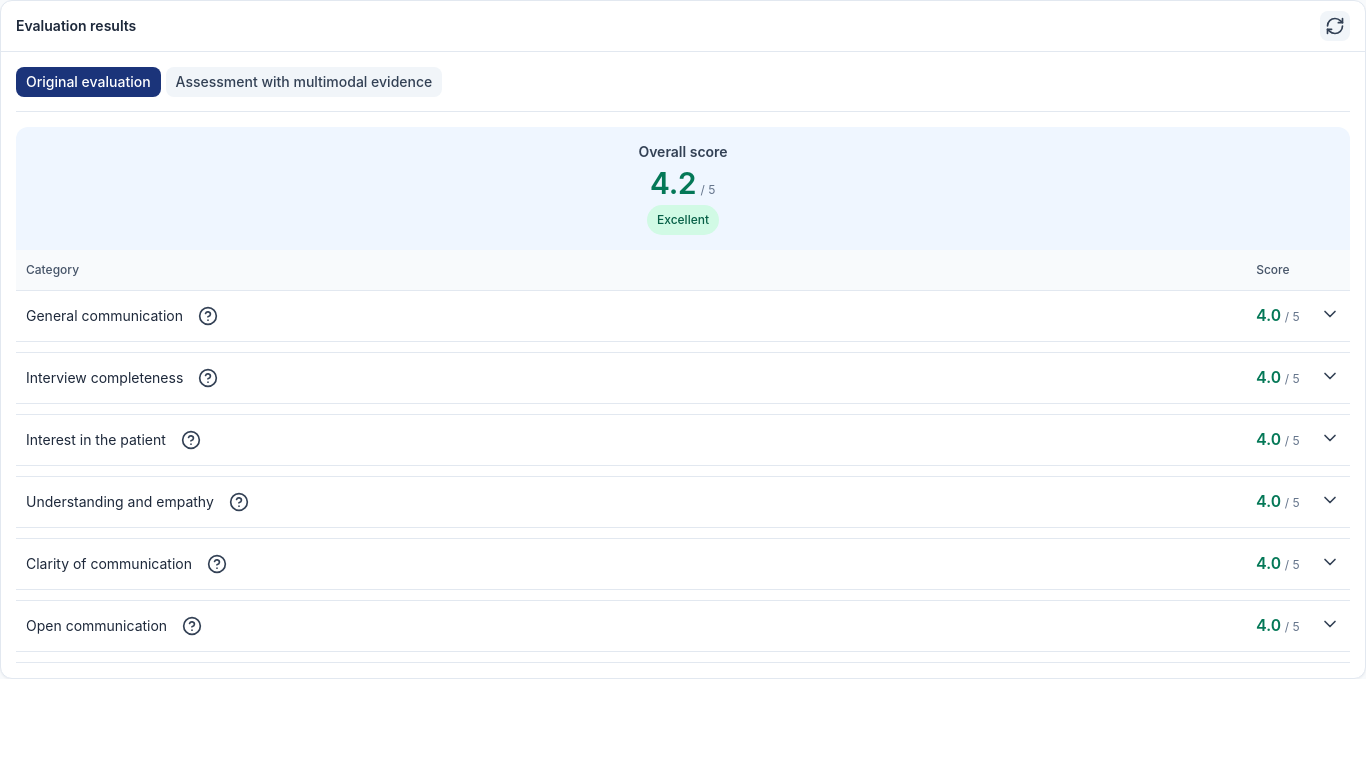
Test case: regenerates only after confirmation and leaves cancellation without effects
The image size is (1366, 768).
Click the button named "Regenerate evaluation".
click(1335, 26)  # box 1320,11 -> 1350,41
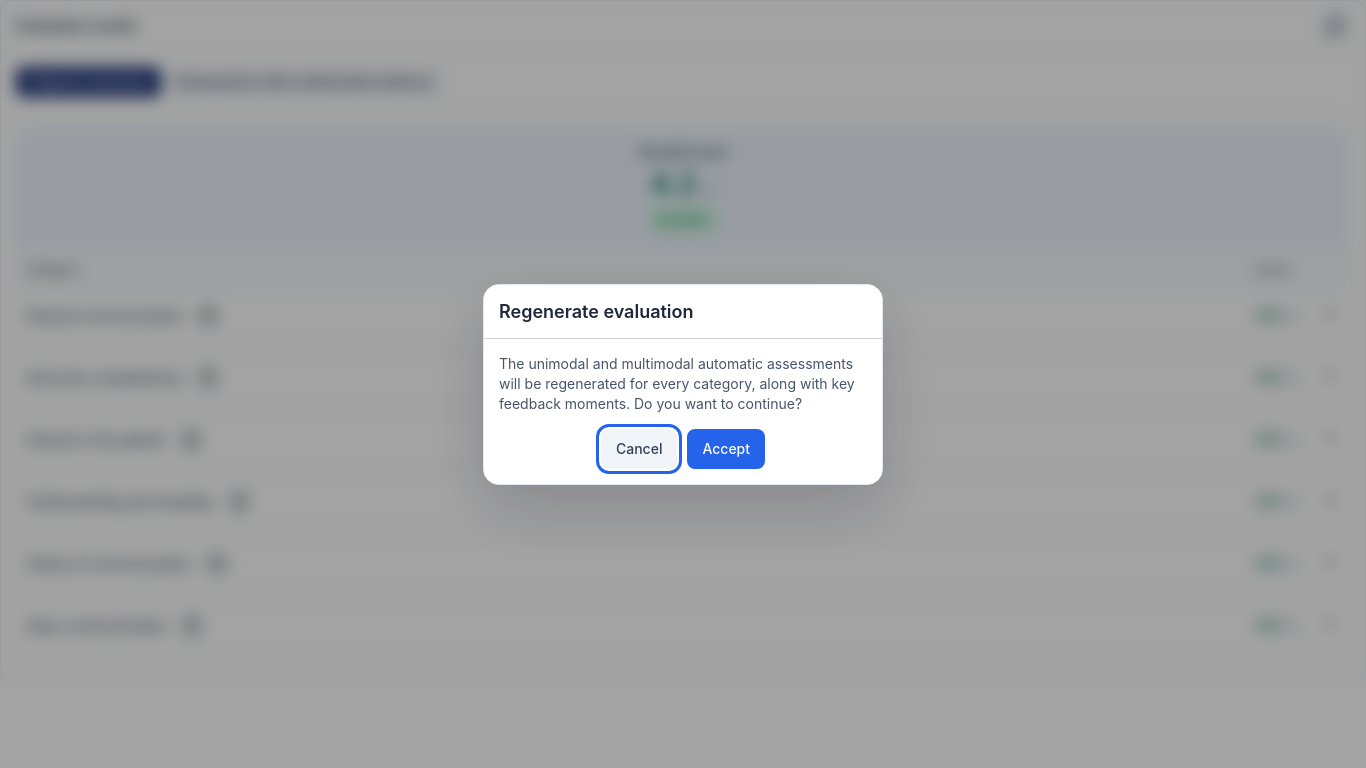
Now the dialog "Regenerate evaluation" is shown, box 483,284 -> 883,484
Click the button "Cancel".
click(639, 448)  # box 601,428 -> 677,468
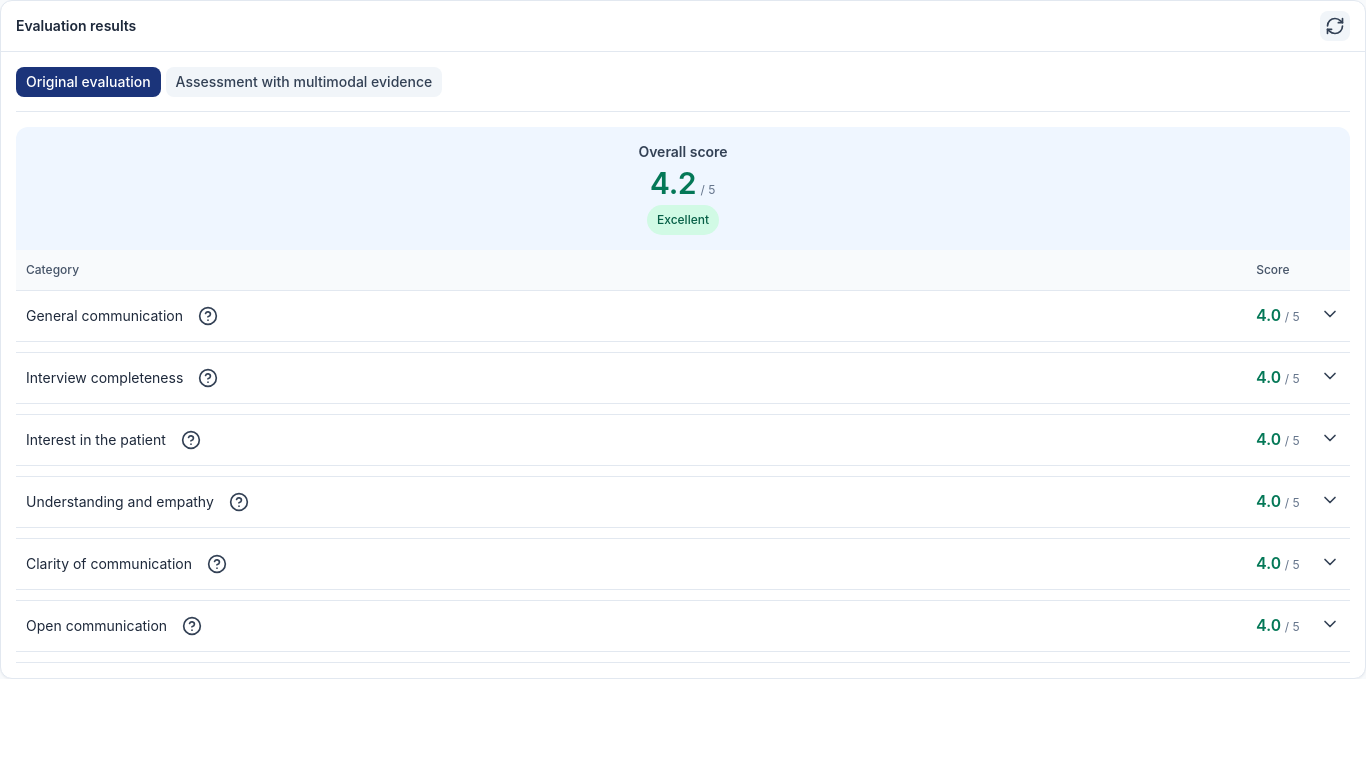
Click the button named "Regenerate evaluation".
click(1335, 26)  # box 1320,11 -> 1350,41
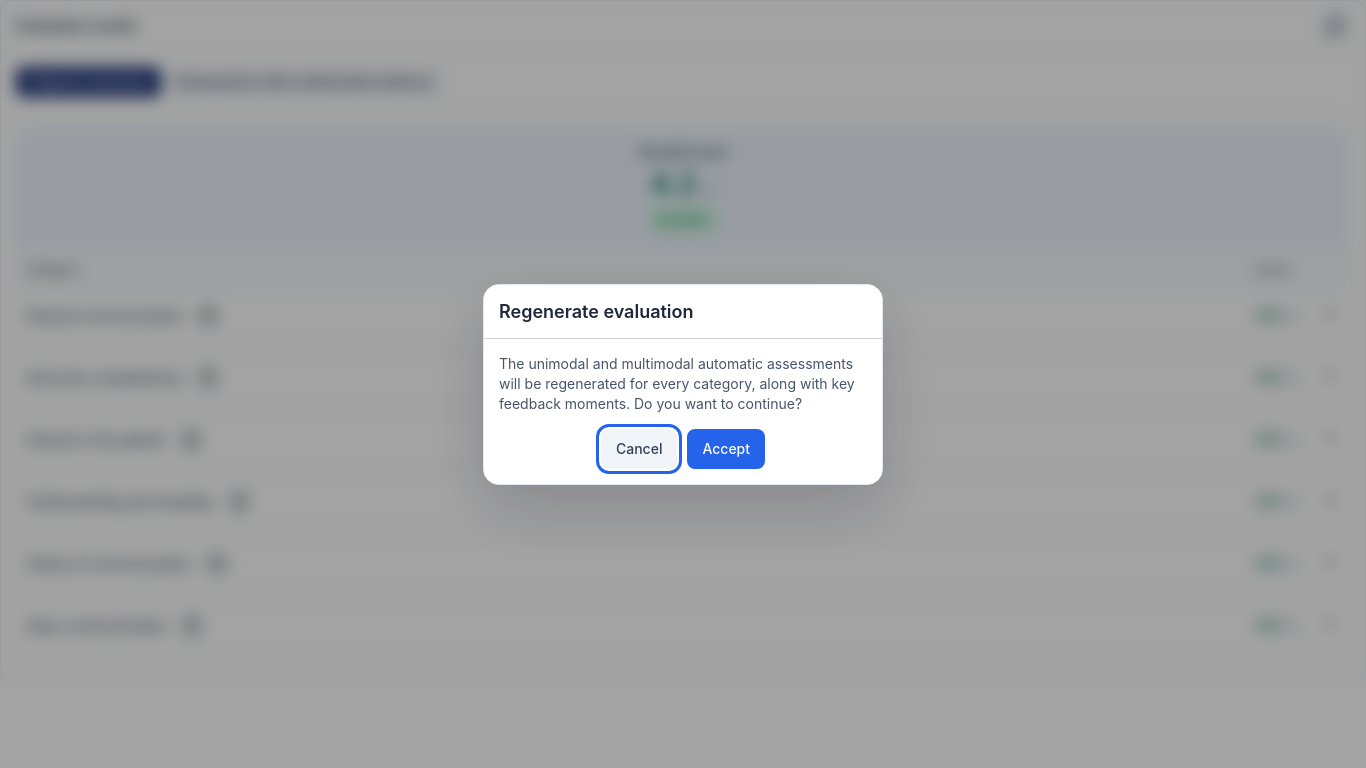
Click the button "Accept".
click(726, 448)  # box 687,428 -> 765,468
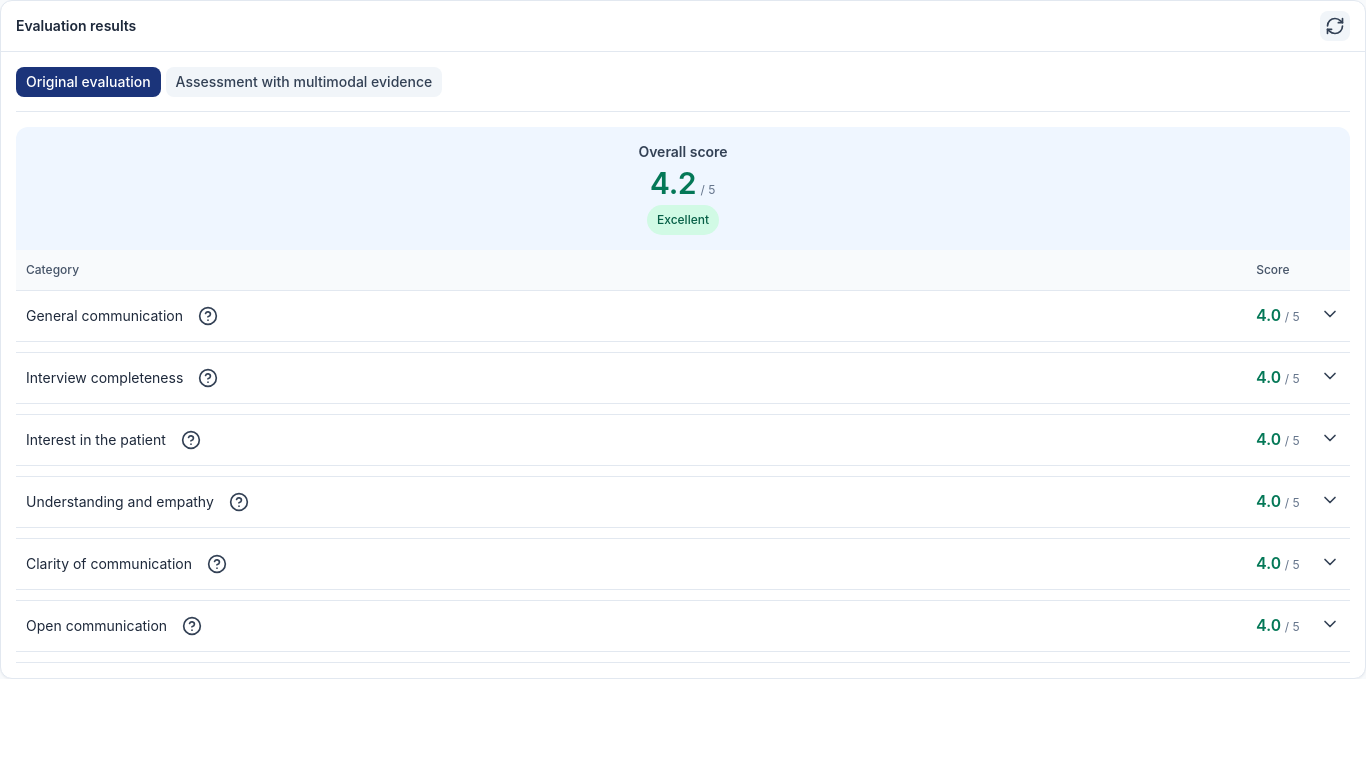
Now the dialog is gone
